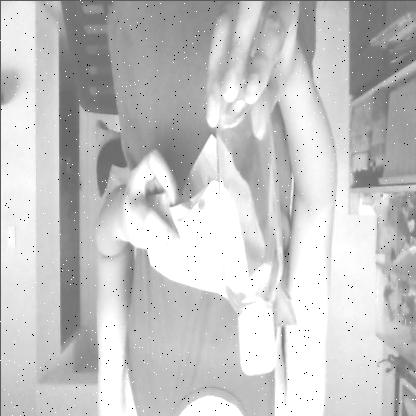Plastic Bottle: (217, 60, 274, 384)
